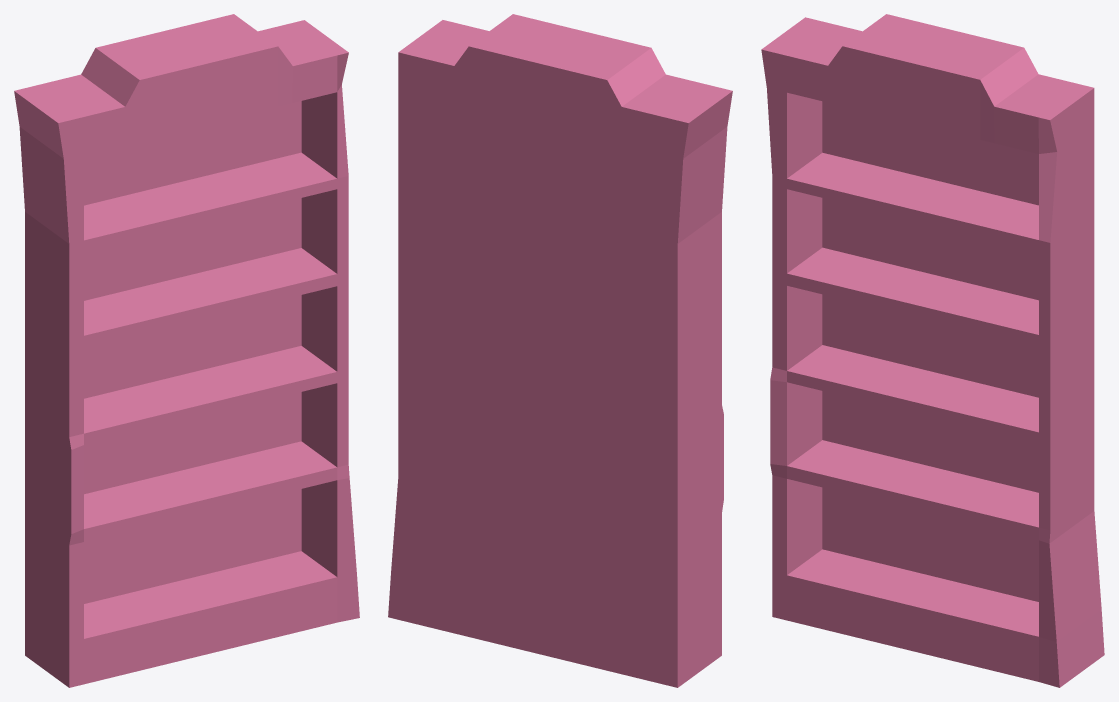
File: bookcase.fbx
3 renders of one model, left to right at view 1: azimuth 30°, elevation 25°; view 2: azimuth 150°, elevation 25°; view 3: azimuth 330°, elevation 25°, orthographic.
Parts seen in each view (by area): view 1: Bookcase; view 2: Bookcase; view 3: Bookcase.
Boxes of the visible parts, x1,y1,x2,y2 form: Bookcase: (14, 14, 359, 687); Bookcase: (388, 14, 732, 687); Bookcase: (761, 14, 1104, 687).
Size of the model in its own units: 194 by 51.65 by 364.
